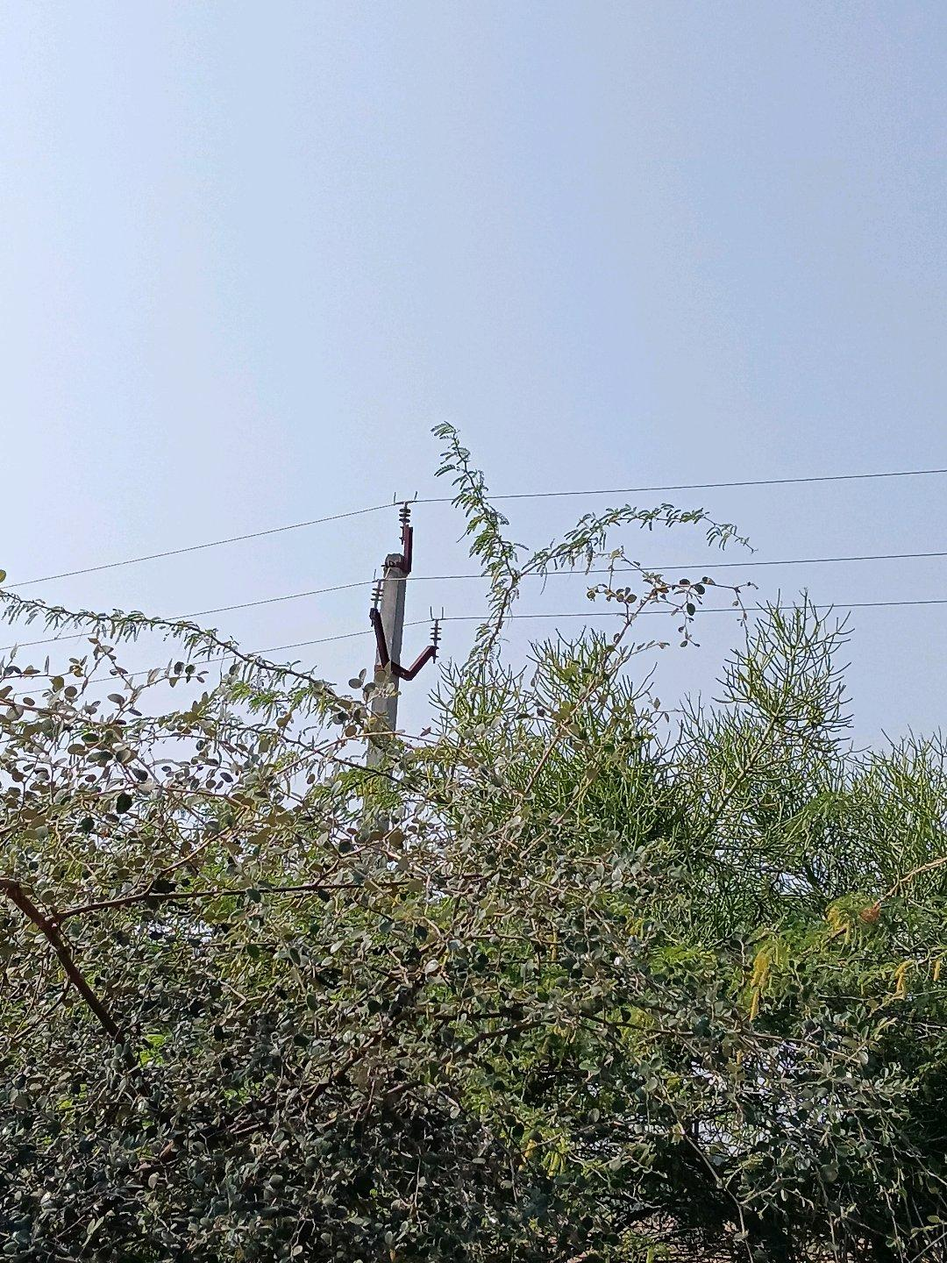{"0" "insulator", "1" "pole", "2" "crossarm", "3" "conductor", "4" "street_: (363, 505, 438, 833), (341, 844, 349, 848)
